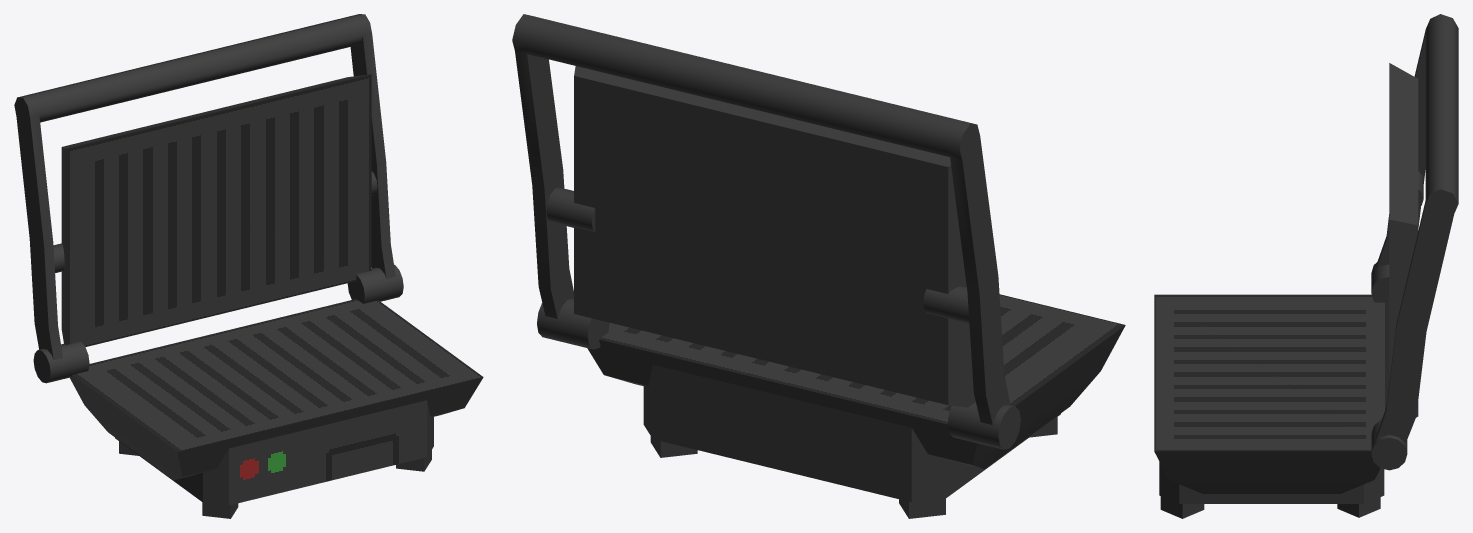
Rendered from panini_press.glb.
The picture shows the model from 3 angles, left to right: view 1: azimuth 30°, elevation 25°; view 2: azimuth 150°, elevation 25°; view 3: azimuth 270°, elevation 25°; orthographic projection. The views are drawn at different scales.
Parts seen in each view (by area): view 1: Cube; view 2: Cube; view 3: Cube.
Boxes of the visible parts, bbox=[...] form: Cube: bbox=[14, 14, 483, 518]; Cube: bbox=[512, 14, 1125, 518]; Cube: bbox=[1154, 14, 1458, 518].
Bounding box in the file's own units: 36.38 × 33.65 × 25.9.
1 material, 1 textured.
